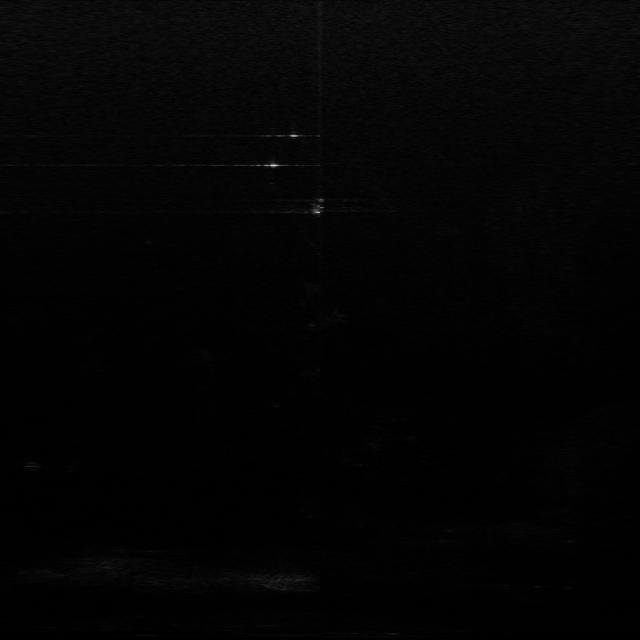rov: (306, 196, 326, 218)
